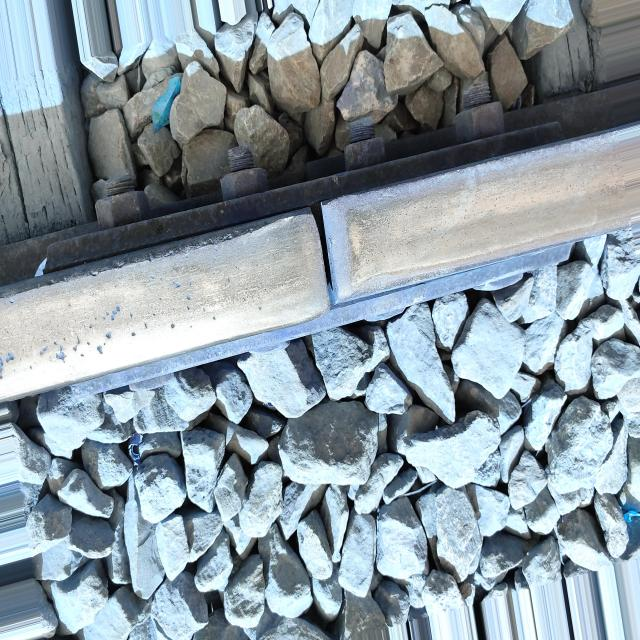crack: (298, 190, 352, 332)
